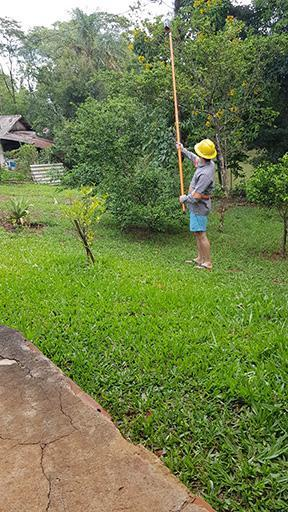helmet: (193, 138, 217, 162)
